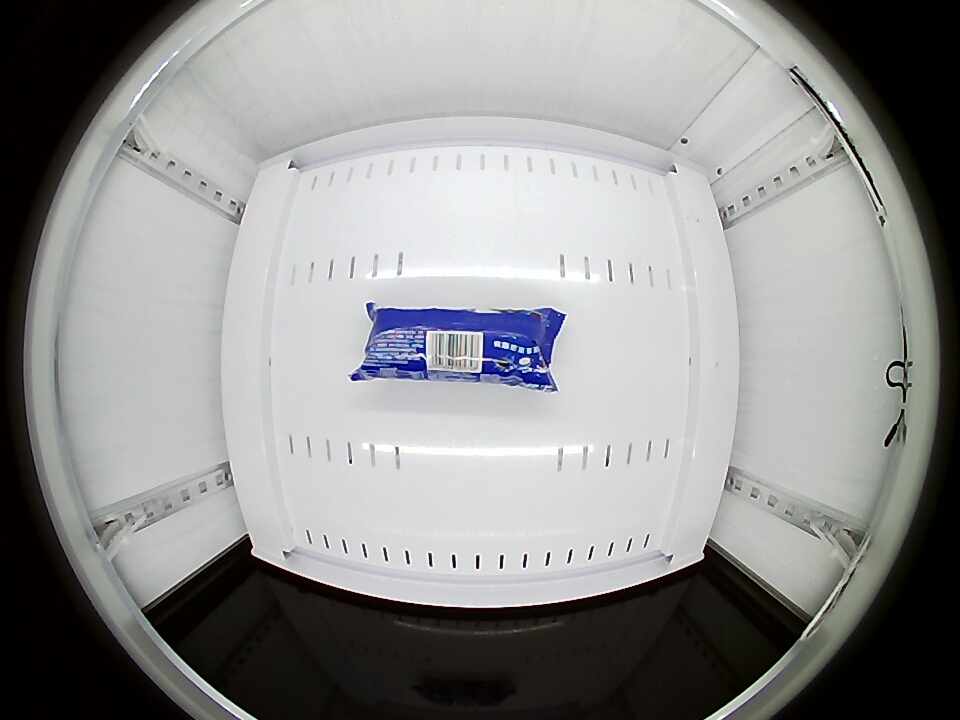aoliao: (360, 306, 559, 385)
